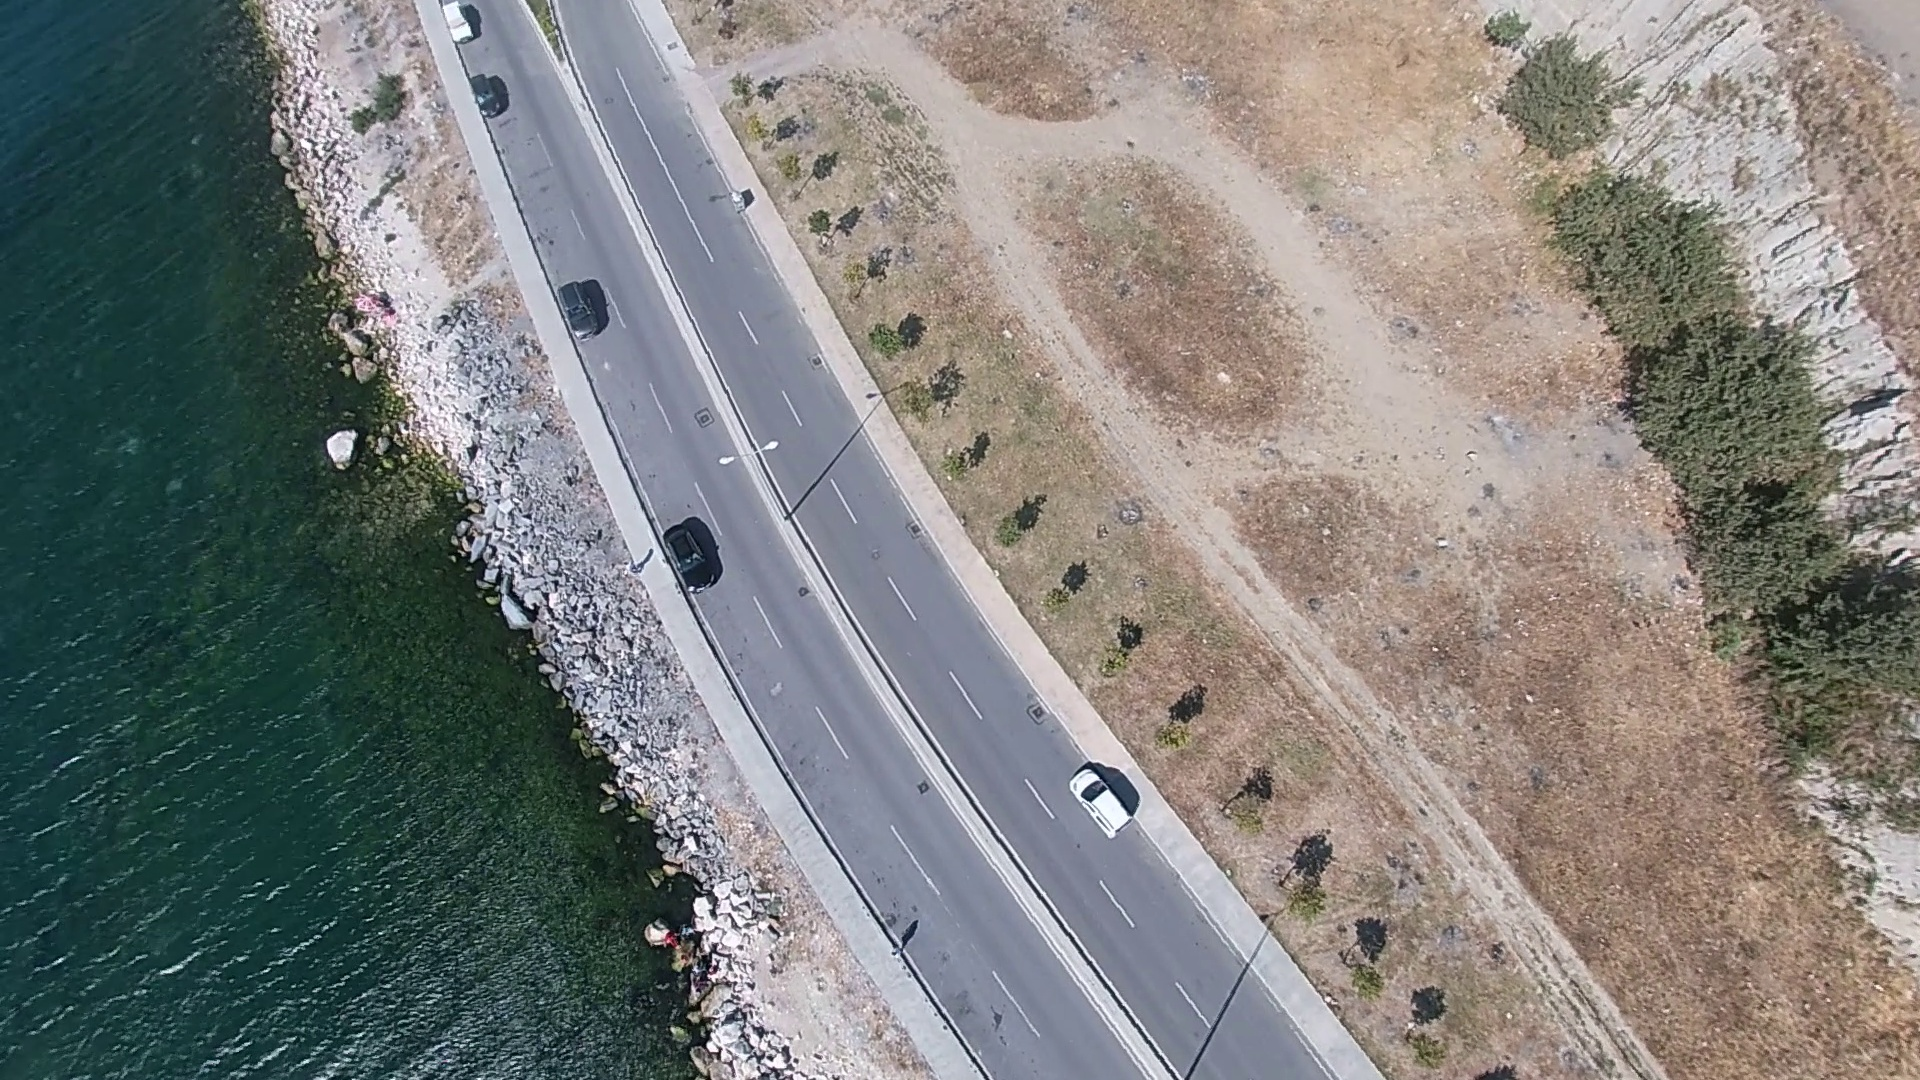arac: (1063, 762, 1136, 836), (551, 272, 610, 335)
insan: (1407, 988, 1447, 1028), (1350, 920, 1388, 962), (1109, 614, 1143, 659), (1054, 560, 1089, 600)
